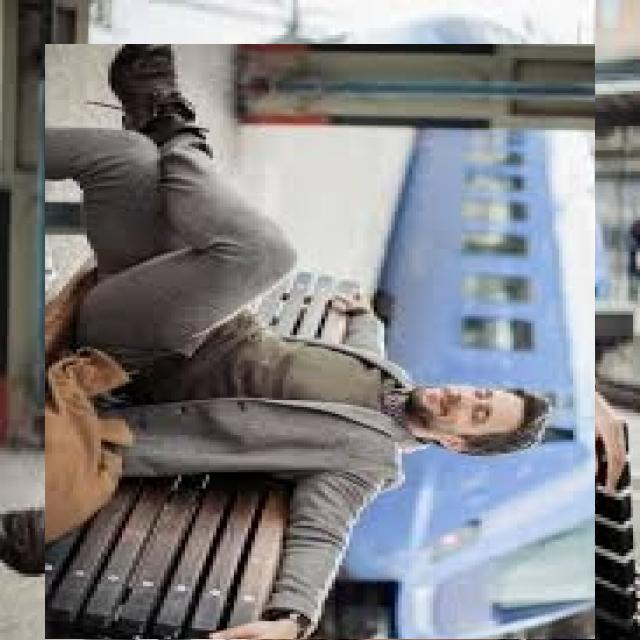NotFall: (0, 87, 579, 560)
